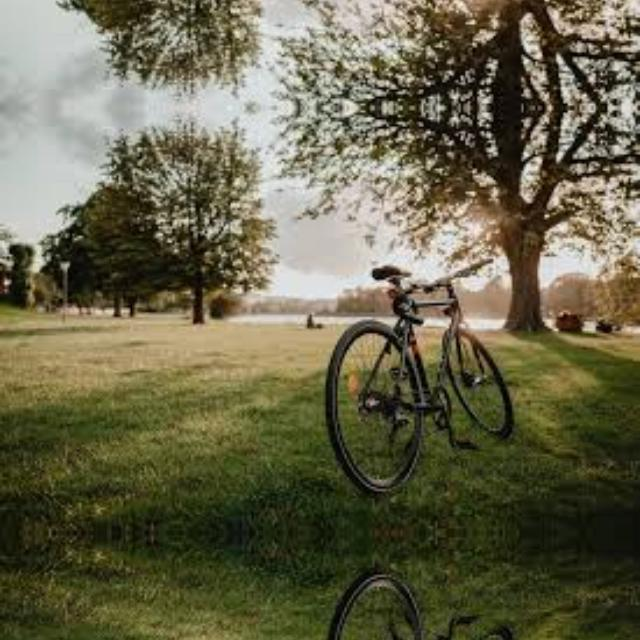obstacle: (300, 237, 542, 488), (299, 577, 542, 640)
